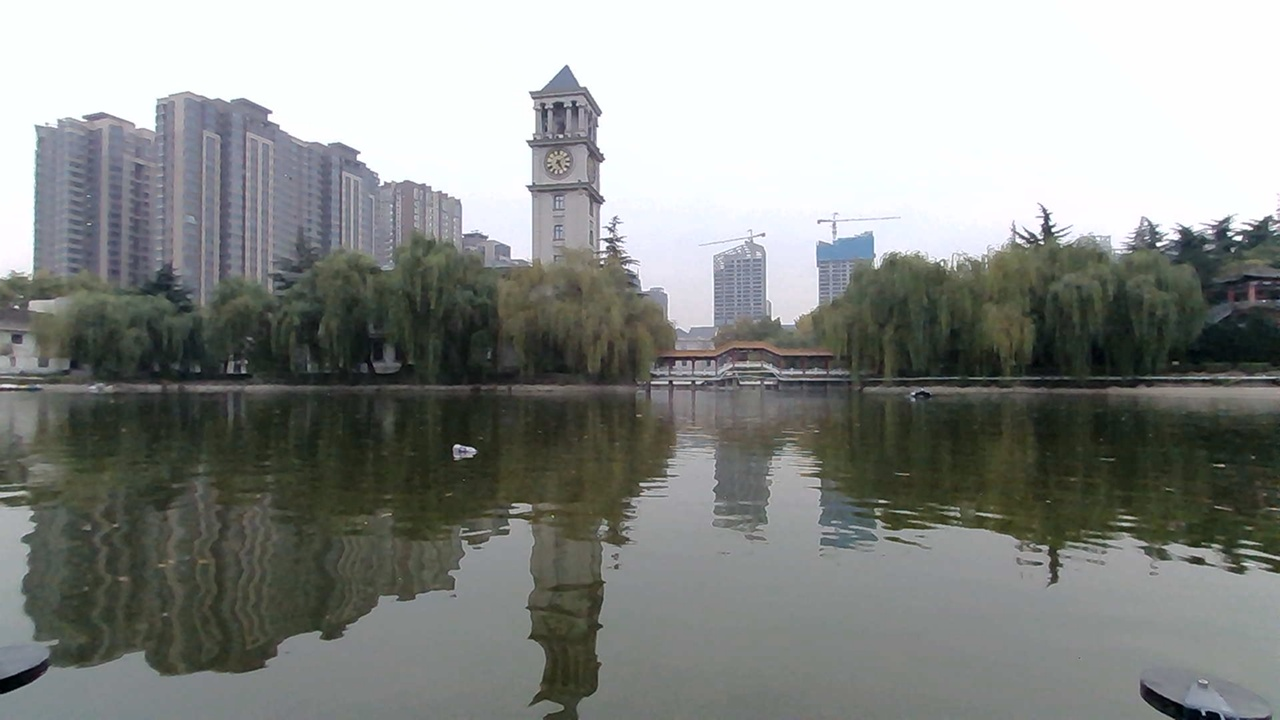bottle: (446, 431, 498, 469)
